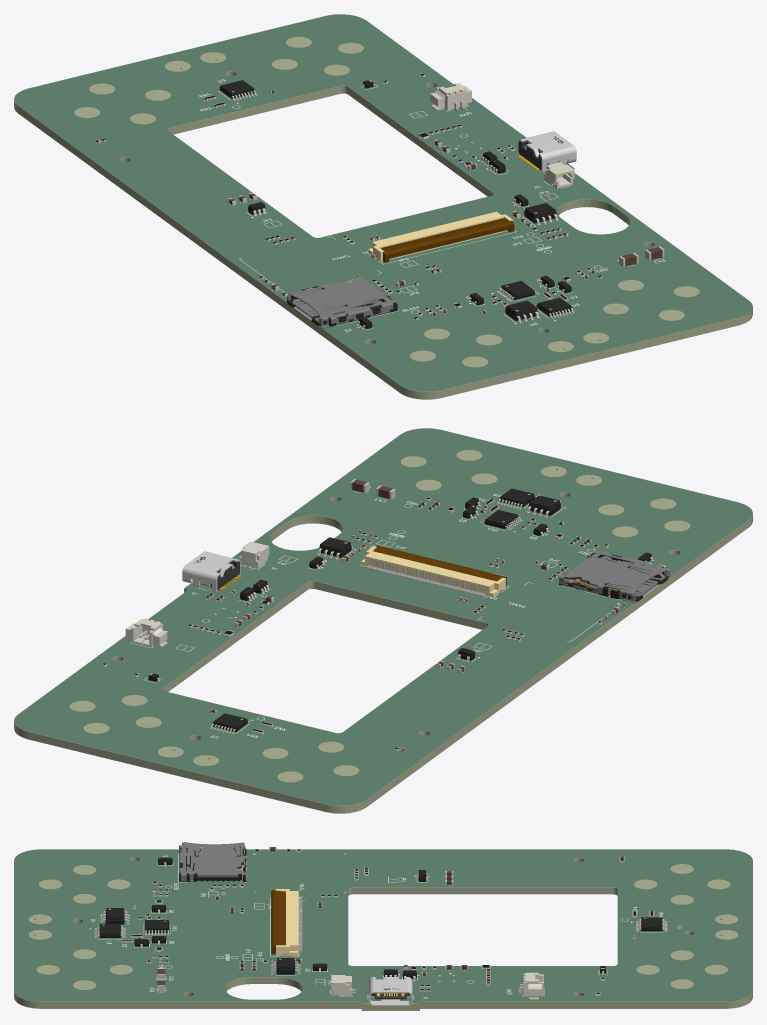
The model's file is board.glb.
3 renders of one model, top to bottom at view 1: azimuth 30°, elevation 25°; view 2: azimuth 150°, elevation 25°; view 3: azimuth 270°, elevation 25°, orthographic. The views are drawn at different scales.
Visible parts, largest first — view 1: =>[0:1:1:45], =>[0:1:1:43], =>[0:1:1:19], lock, =>[0:1:1:34], =>[0:1:1:41], body, =>[0:1:1:38], =>[0:1:1:44], =>[0:1:1:15]; view 2: =>[0:1:1:45], =>[0:1:1:43], =>[0:1:1:19], body, =>[0:1:1:34], =>[0:1:1:41], pins, lock, =>[0:1:1:38], =>[0:1:1:44], =>[0:1:1:15]; view 3: =>[0:1:1:45], =>[0:1:1:43], =>[0:1:1:19], =>[0:1:1:41], =>[0:1:1:13] (×3), =>[0:1:1:34], body, lock, =>[0:1:1:23] (×2), =>[0:1:1:44], =>[0:1:1:38], =>[0:1:1:15].
Boxes of the visible parts, x1,y1,x2,y2 form: =>[0:1:1:45]: [14, 15, 752, 399]; =>[0:1:1:43]: [14, 14, 752, 391]; =>[0:1:1:19]: [286, 275, 397, 328]; lock: [381, 218, 514, 262]; =>[0:1:1:34]: [518, 131, 576, 172]; =>[0:1:1:41]: [96, 76, 665, 331]; body: [368, 211, 513, 261]; =>[0:1:1:38]: [430, 83, 472, 110]; =>[0:1:1:44]: [15, 93, 751, 399]; =>[0:1:1:15]: [544, 162, 574, 188]; =>[0:1:1:45]: [14, 429, 752, 813]; =>[0:1:1:43]: [14, 428, 752, 805]; =>[0:1:1:19]: [559, 550, 671, 603]; body: [361, 546, 505, 597]; =>[0:1:1:34]: [182, 551, 240, 592]; =>[0:1:1:41]: [106, 486, 665, 752]; pins: [364, 555, 504, 596]; lock: [373, 545, 506, 585]; =>[0:1:1:38]: [125, 618, 167, 647]; =>[0:1:1:44]: [14, 523, 751, 813]; =>[0:1:1:15]: [239, 541, 269, 568]; =>[0:1:1:45]: [14, 850, 752, 1010]; =>[0:1:1:43]: [14, 849, 752, 1003]; =>[0:1:1:19]: [179, 842, 246, 881]; =>[0:1:1:41]: [89, 852, 681, 1003]; =>[0:1:1:13] (×3): [94, 917, 667, 938]; =>[0:1:1:34]: [369, 977, 412, 1005]; body: [276, 889, 298, 955]; lock: [271, 890, 285, 954]; =>[0:1:1:23] (×2): [100, 908, 300, 974]; =>[0:1:1:44]: [15, 894, 751, 1010]; =>[0:1:1:38]: [518, 972, 543, 999]; =>[0:1:1:15]: [331, 975, 355, 995].
Bounding box in the file's own units: 0.0764 × 0.00507 × 0.1515.
